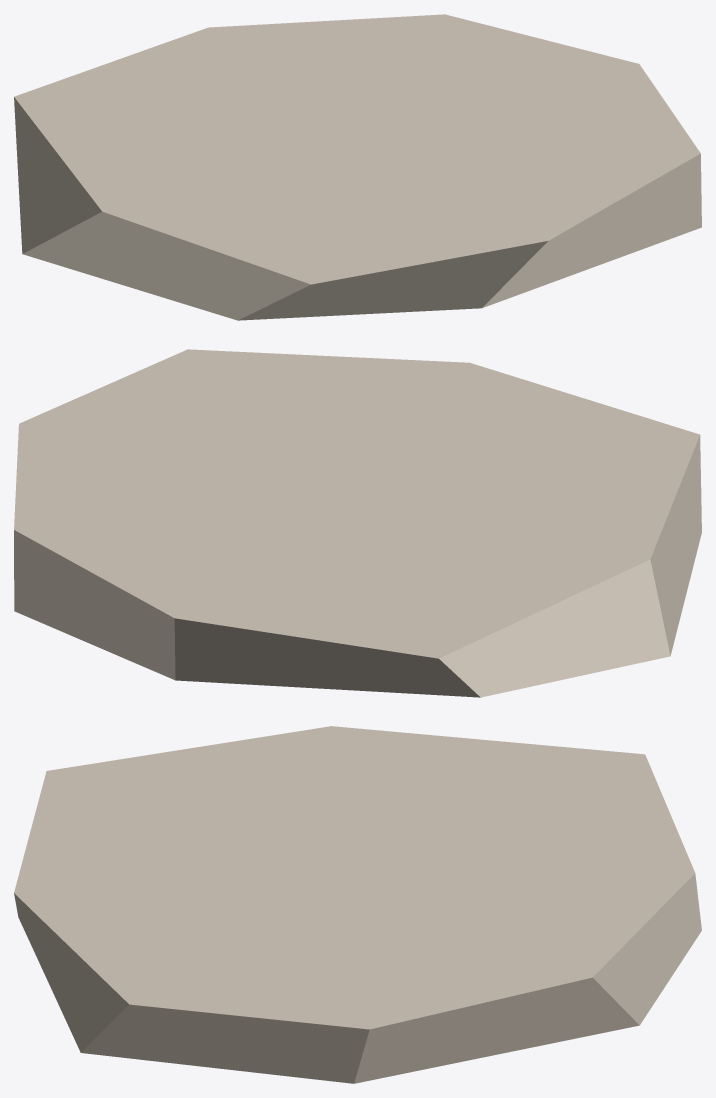
Rendered from path_tile.glb.
3 views of the same model, one above another, from view 1: azimuth 30°, elevation 25°; view 2: azimuth 150°, elevation 25°; view 3: azimuth 270°, elevation 25° (orthographic). The views are drawn at different scales.
Parts seen in each view (by area): view 1: PathTile; view 2: PathTile; view 3: PathTile.
Part boxes in pixels (bbox=[...]): PathTile: bbox=[14, 14, 701, 320]; PathTile: bbox=[14, 349, 701, 697]; PathTile: bbox=[14, 726, 701, 1083].
Bounding box in the file's own units: 0.95 × 0.08 × 0.8363.
